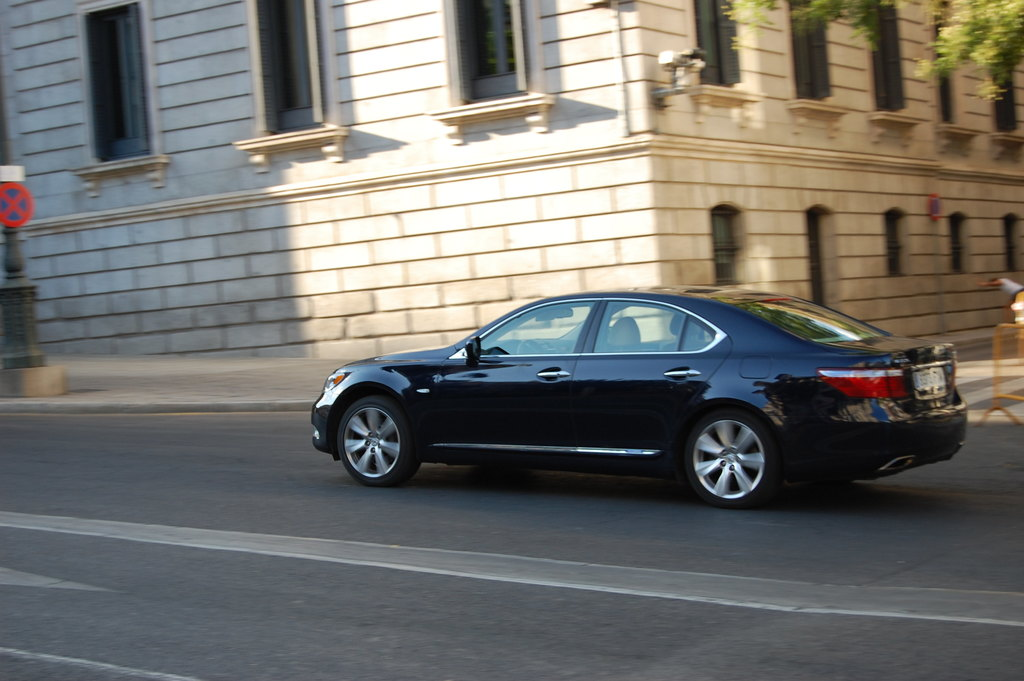cars: (307, 282, 967, 509)
